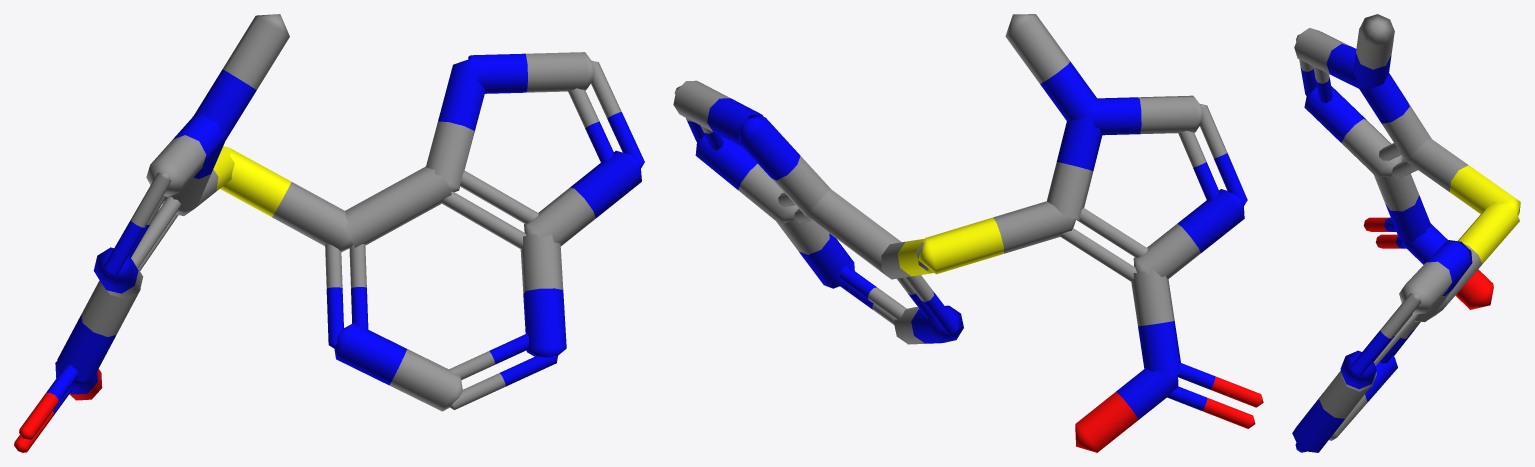
Rendered from azath.glb.
The picture shows the model from 3 angles, left to right: view 1: azimuth 30°, elevation 25°; view 2: azimuth 150°, elevation 25°; view 3: azimuth 270°, elevation 25°; orthographic projection. The views are drawn at different scales.
Visible parts, largest first — view 1: node-geom2; view 2: node-geom2; view 3: node-geom2.
Boxes of the visible parts, <box> form: node-geom2: <box>14,14,644,452</box>; node-geom2: <box>673,14,1263,452</box>; node-geom2: <box>1292,14,1520,452</box>.
Size of the model in its own units: 8.69 by 5.52 by 3.19.
